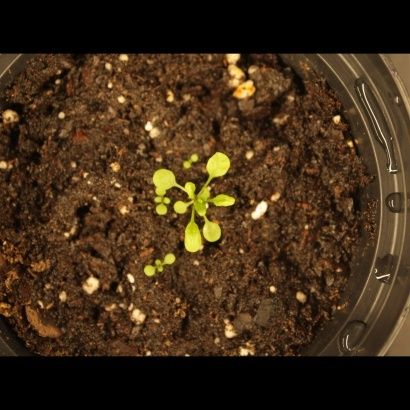leaf: (205, 149, 235, 180), (180, 217, 203, 256), (152, 168, 180, 192), (213, 189, 239, 212), (203, 220, 226, 245), (136, 261, 159, 284), (160, 250, 183, 273), (148, 202, 171, 225), (170, 196, 193, 219), (181, 176, 204, 199), (191, 198, 214, 221)
